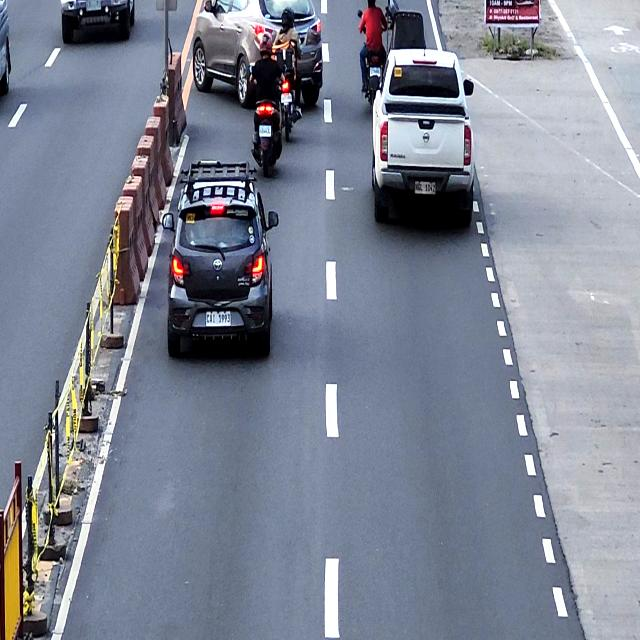Car: (161, 159, 279, 358), (371, 47, 475, 226), (191, 0, 322, 108), (59, 0, 135, 43), (0, 0, 13, 96)
License-Plate: (205, 311, 232, 326), (414, 180, 436, 195), (259, 124, 272, 138), (86, 0, 102, 10), (281, 92, 292, 104), (370, 66, 381, 78)
Motorcycle: (247, 63, 285, 177), (271, 41, 300, 142)
Tricycle: (358, 0, 426, 106)
